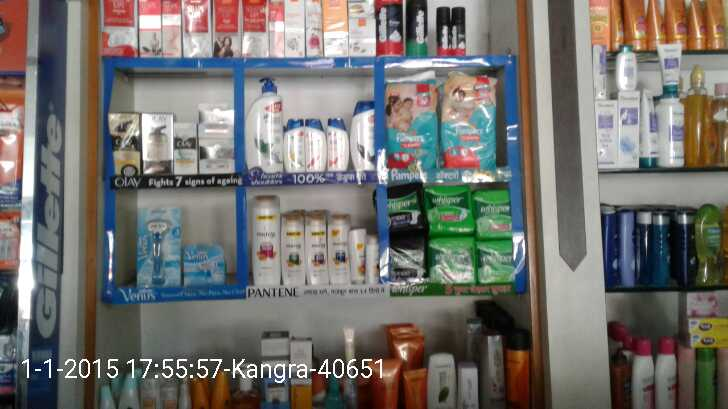gillete: (375, 1, 401, 53), (408, 1, 427, 55), (438, 8, 453, 55), (453, 8, 467, 52)
venus: (141, 207, 182, 289), (182, 245, 225, 289)
